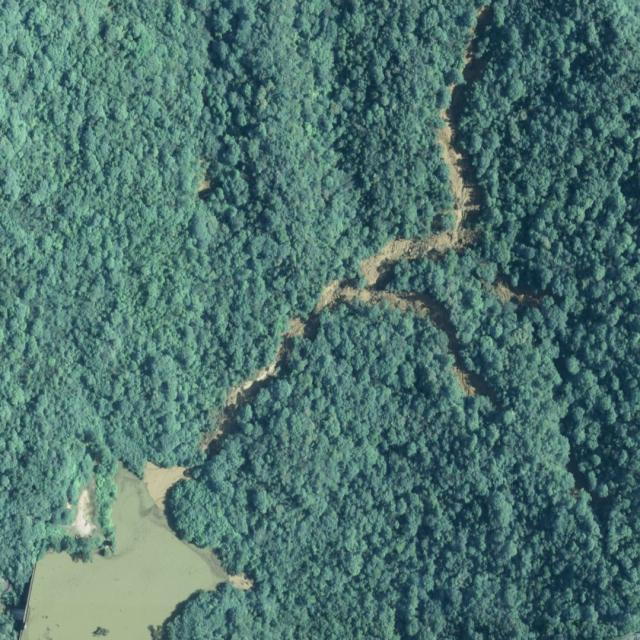landslide: (256, 110, 480, 381)
